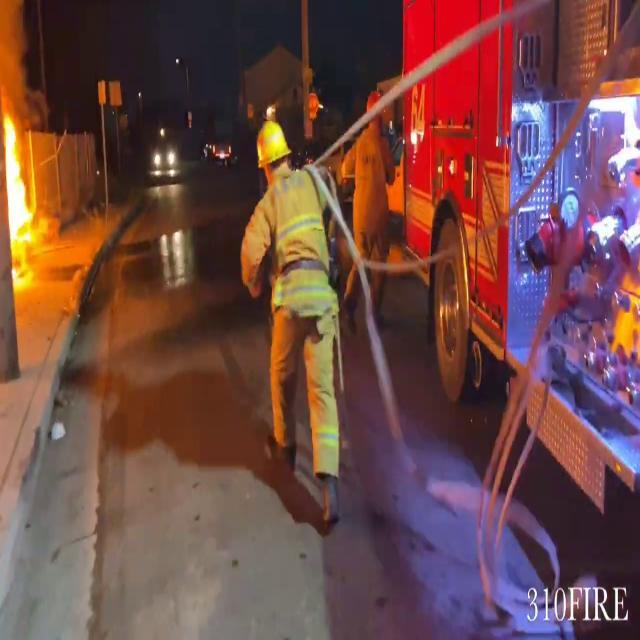Fire: (0, 100, 38, 280)
Smoke: (0, 0, 35, 110)
